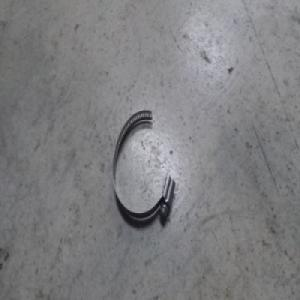AdjustableClamp: (111, 108, 175, 224)
